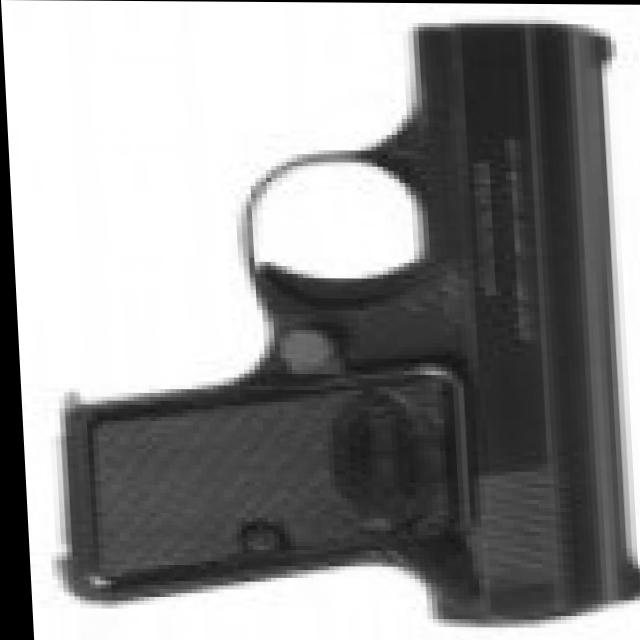handgun: (43, 12, 640, 616)
